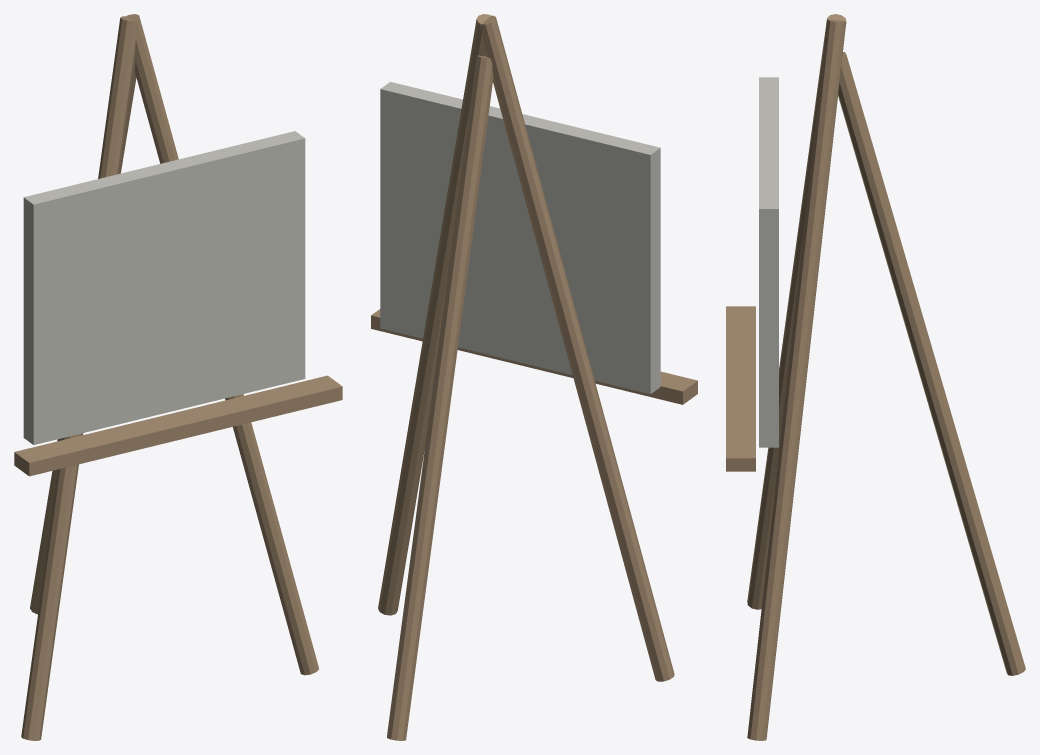
File: ART-001.glb
3 renders of one model, left to right at view 1: azimuth 30°, elevation 25°; view 2: azimuth 150°, elevation 25°; view 3: azimuth 270°, elevation 25°, orthographic.
Visible parts, largest first — view 1: 003_Canvas, 004_Canvas_rest, 000_Left_easel_leg, 001_Right_easel_leg, 002_Rear_easel_leg; view 2: 003_Canvas, 000_Left_easel_leg, 002_Rear_easel_leg, 001_Right_easel_leg, 004_Canvas_rest; view 3: 001_Right_easel_leg, 002_Rear_easel_leg, 003_Canvas, 004_Canvas_rest, 000_Left_easel_leg.
Boxes of the visible parts, <box> form: 003_Canvas: <box>23,131,305,444</box>; 004_Canvas_rest: <box>14,375,342,476</box>; 000_Left_easel_leg: <box>21,16,138,740</box>; 001_Right_easel_leg: <box>126,14,318,675</box>; 002_Rear_easel_leg: <box>30,60,136,614</box>; 003_Canvas: <box>380,82,660,394</box>; 000_Left_easel_leg: <box>479,15,674,681</box>; 002_Rear_easel_leg: <box>387,55,493,740</box>; 001_Right_easel_leg: <box>378,14,490,615</box>; 004_Canvas_rest: <box>371,309,697,404</box>; 001_Right_easel_leg: <box>747,19,846,740</box>; 002_Rear_easel_leg: <box>838,52,1025,675</box>; 003_Canvas: <box>759,77,778,447</box>; 004_Canvas_rest: <box>726,306,755,471</box>; 000_Left_easel_leg: <box>747,14,846,609</box>.
Size of the model in its own units: 0.9 by 1.81 by 0.7516.
